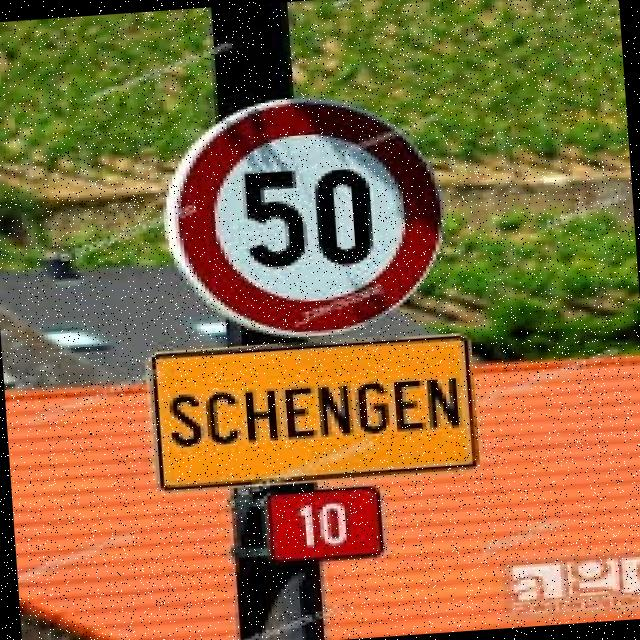speed_limit_50: (145, 76, 474, 356)
